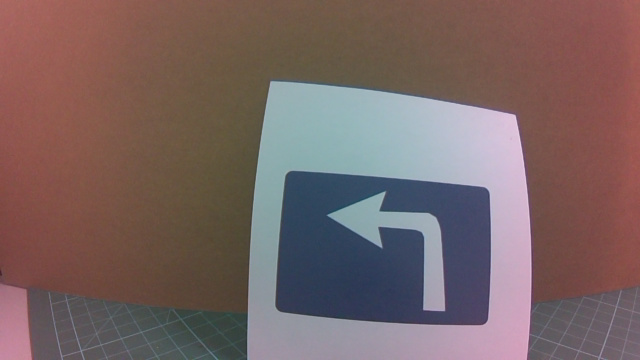left: (284, 163, 503, 334)
